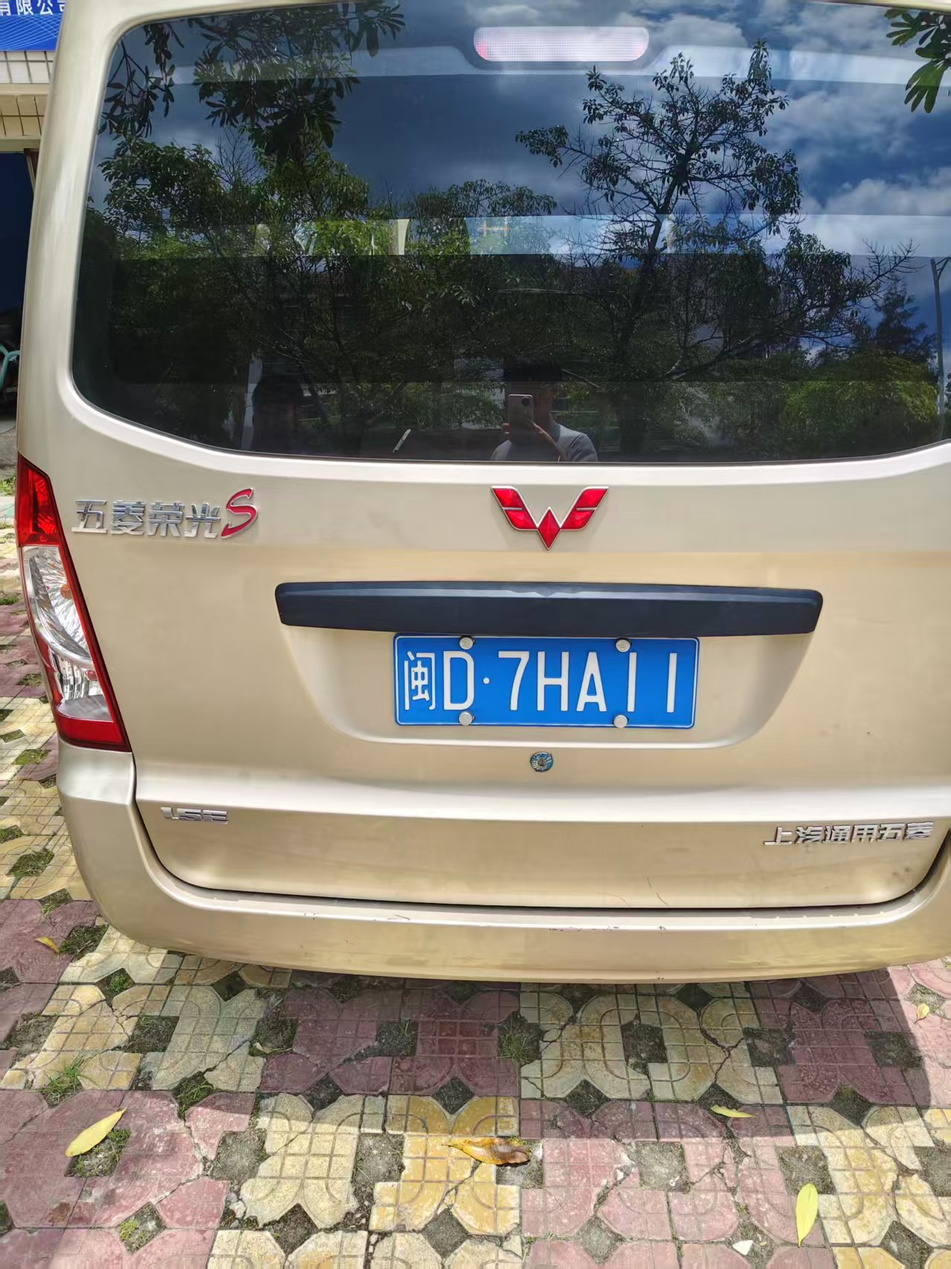plate: (390, 632, 704, 739)
